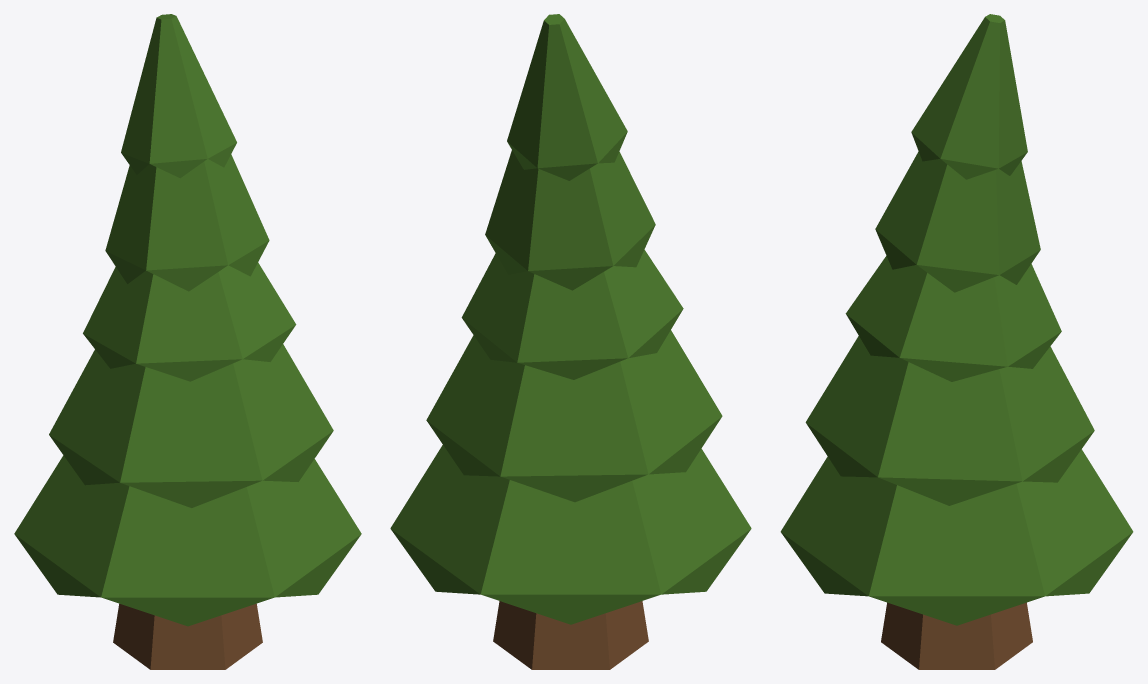
Rendered from tree_pineRoundD.glb.
3 views of the same model, side by side, from view 1: azimuth 30°, elevation 25°; view 2: azimuth 150°, elevation 25°; view 3: azimuth 270°, elevation 25° (orthographic). The views are drawn at different scales.
Parts seen in each view (by area): view 1: tree_pineRoundD; view 2: tree_pineRoundD; view 3: tree_pineRoundD.
Boxes of the visible parts, <box> form: tree_pineRoundD: <box>14,14,361,669</box>; tree_pineRoundD: <box>390,14,751,669</box>; tree_pineRoundD: <box>780,14,1133,669</box>.
Size of the model in its own units: 0.4804 by 1.08 by 0.5547.
